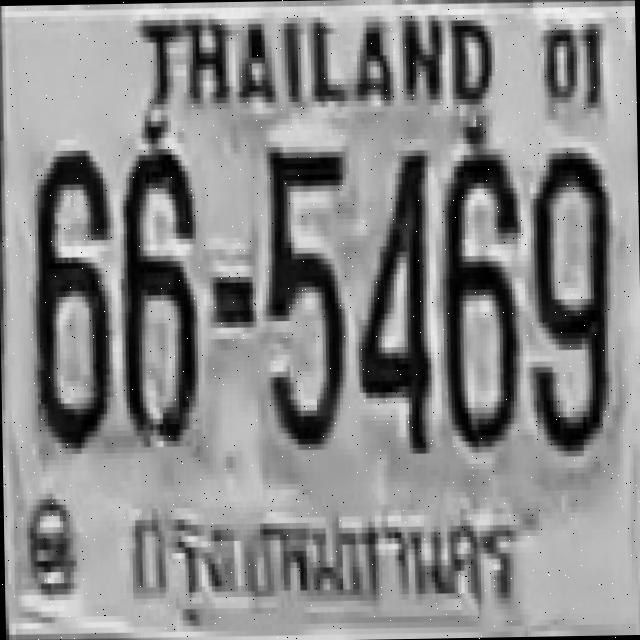4: (352, 144, 428, 448)
5: (261, 140, 348, 444)
6: (437, 142, 518, 442), (30, 144, 110, 443), (118, 142, 196, 442)
9: (526, 144, 610, 448)
Bangkok: (119, 488, 521, 615)
